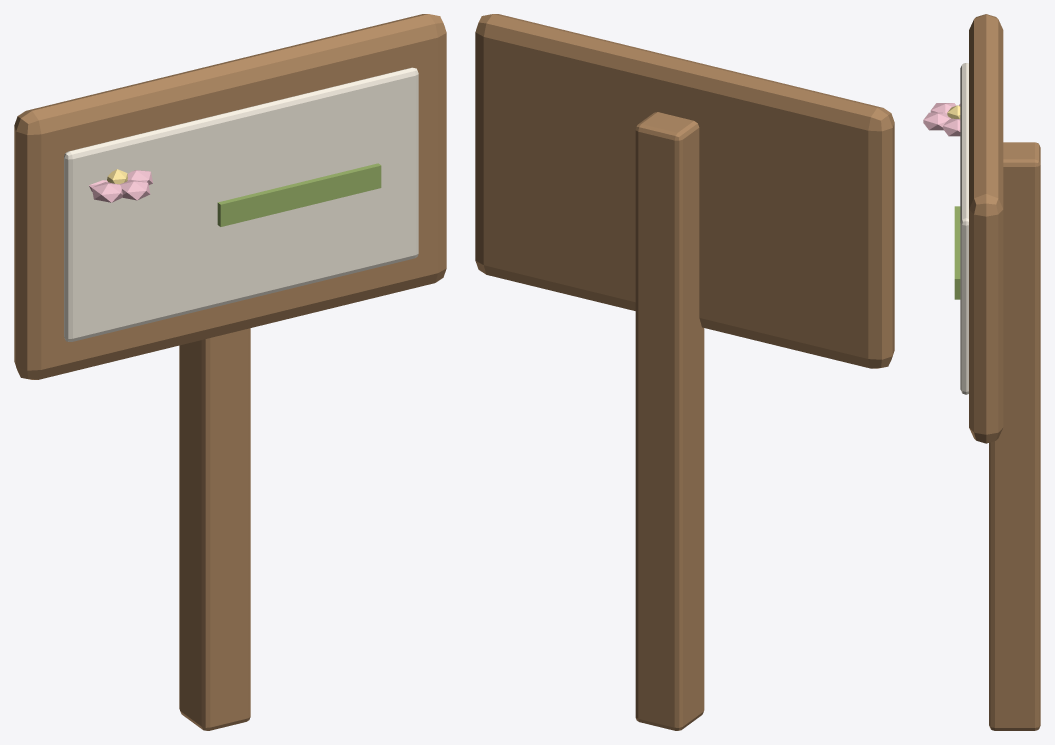
3 renders of one model, left to right at view 1: azimuth 30°, elevation 25°; view 2: azimuth 150°, elevation 25°; view 3: azimuth 270°, elevation 25°, orthographic. The views are drawn at different scales.
Parts seen in each view (by area): view 1: Deco sign; view 2: Deco sign; view 3: Deco sign.
Boxes of the visible parts, x1,y1,x2,y2 form: Deco sign: (14,14,446,730); Deco sign: (475,14,894,730); Deco sign: (923,14,1040,730).
Size of the model in its own units: 1.12 by 1.67 by 0.2867.
